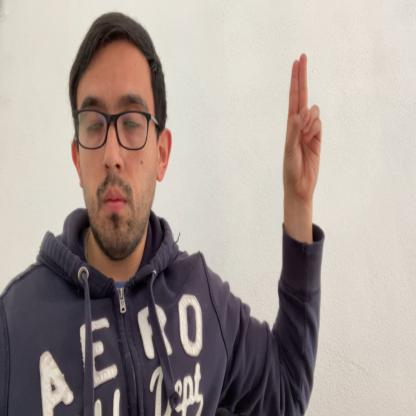U: (284, 52, 322, 208)
